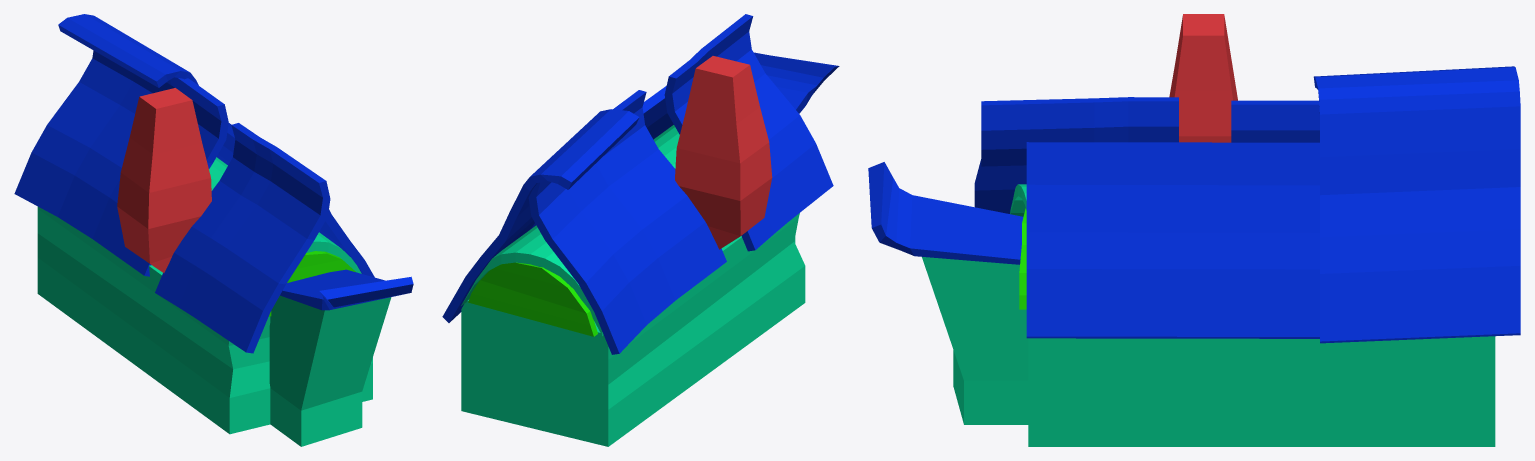
File: SM_GrandeMaison.fbx
3 views of the same model, side by side, from view 1: azimuth 30°, elevation 25°; view 2: azimuth 150°, elevation 25°; view 3: azimuth 270°, elevation 25° (orthographic). The views are drawn at different scales.
Visible parts, largest first — view 1: SM_GrandeMaison; view 2: SM_GrandeMaison; view 3: SM_GrandeMaison.
Part boxes in pixels (x1,y1,x2,y2): SM_GrandeMaison: (14, 14, 413, 446); SM_GrandeMaison: (442, 14, 839, 446); SM_GrandeMaison: (868, 14, 1520, 446).
Size of the model in its own units: 387 by 547 by 945.
